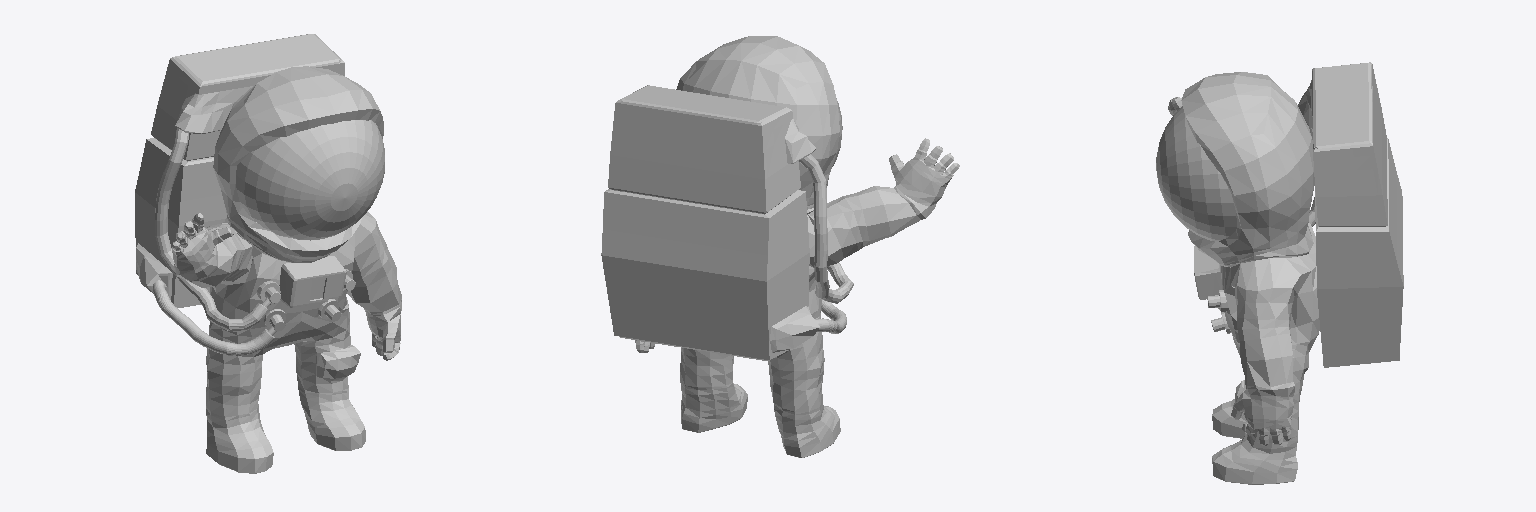
The model's file is astronaut.obj.
3 views of the same model, side by side, from view 1: azimuth 30°, elevation 25°; view 2: azimuth 150°, elevation 25°; view 3: azimuth 270°, elevation 25° (orthographic).
Visible parts, largest first — view 1: Retopo_Suit, Glass; view 2: Retopo_Suit; view 3: Retopo_Suit, Glass.
Boxes of the visible parts, box(x1,y1,x2,y2) form: Retopo_Suit: box(135, 34, 401, 473); Glass: box(236, 120, 384, 240); Retopo_Suit: box(601, 36, 959, 457); Retopo_Suit: box(1168, 62, 1403, 484); Glass: box(1156, 106, 1236, 240).
Bounding box in the file's own units: 6.94 × 9.07 × 5.41.